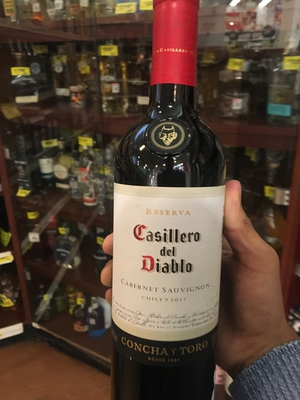casillero del diablo cabernet sauvignon: (95, 19, 231, 393)
